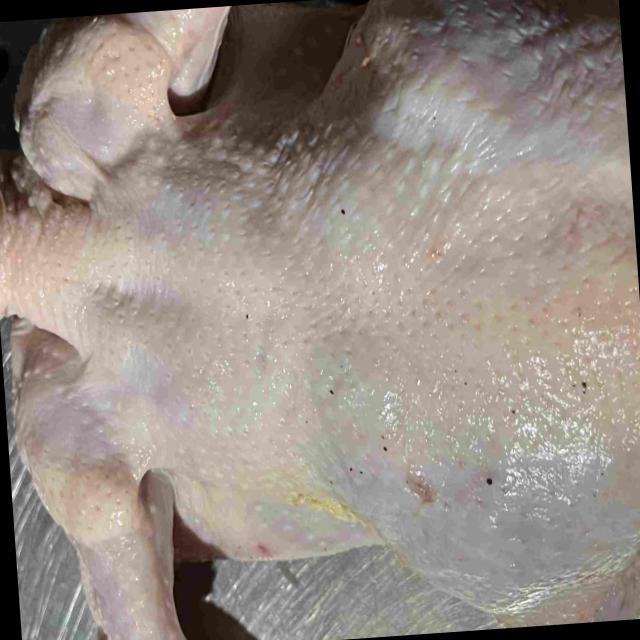back: (76, 114, 640, 529)
leg: (421, 530, 640, 627), (379, 0, 624, 78)
neck: (0, 194, 81, 345)
wing: (9, 5, 239, 200), (37, 435, 186, 640)
